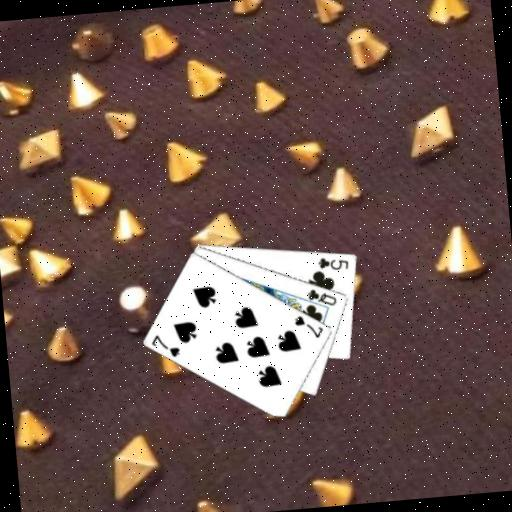5C: (316, 252, 351, 273)
7S: (148, 330, 182, 361), (291, 311, 326, 341)
QC: (304, 284, 339, 310)
